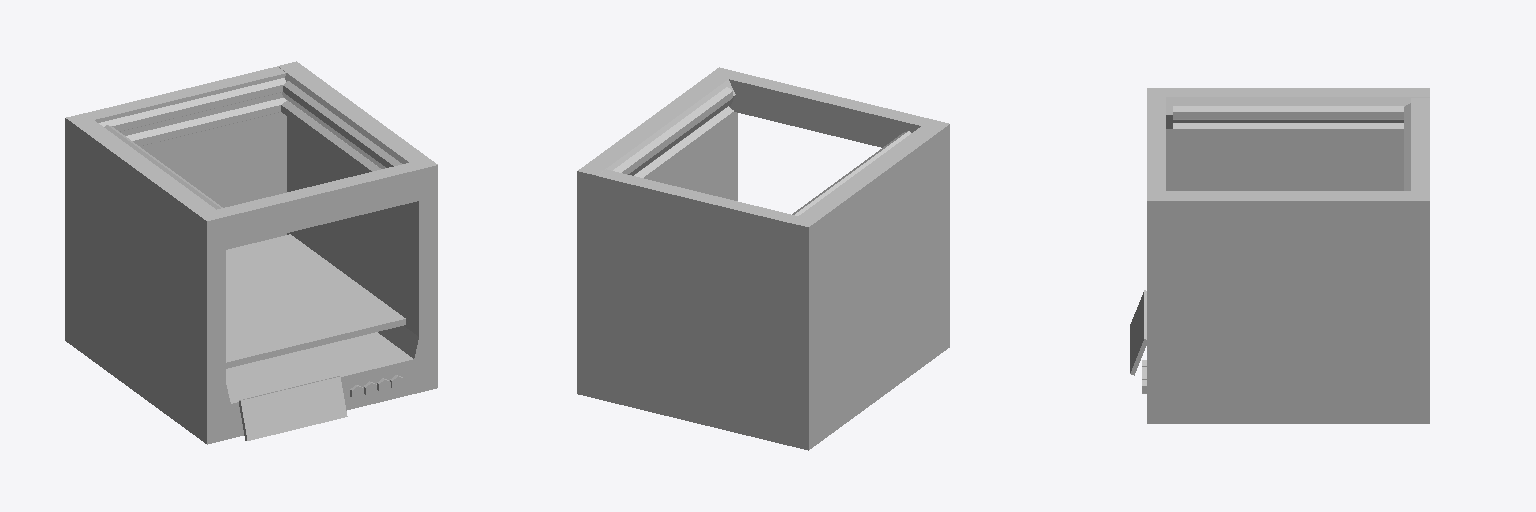
The model's file is WorkbenchLevel30.obj.
3 views of the same model, side by side, from view 1: azimuth 30°, elevation 25°; view 2: azimuth 150°, elevation 25°; view 3: azimuth 270°, elevation 25° (orthographic).
Visible parts, largest first — view 1: WorkbenchLevel3; view 2: WorkbenchLevel3; view 3: WorkbenchLevel3.
Boxes of the visible parts, box(x1,y1,x2,y2) form: WorkbenchLevel3: box(65, 61, 437, 444); WorkbenchLevel3: box(577, 67, 949, 450); WorkbenchLevel3: box(1130, 88, 1429, 423).
Bounding box in the file's own units: 3.47 × 3.2 × 3.9.